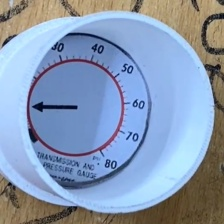gauge: (26, 35, 149, 185)
